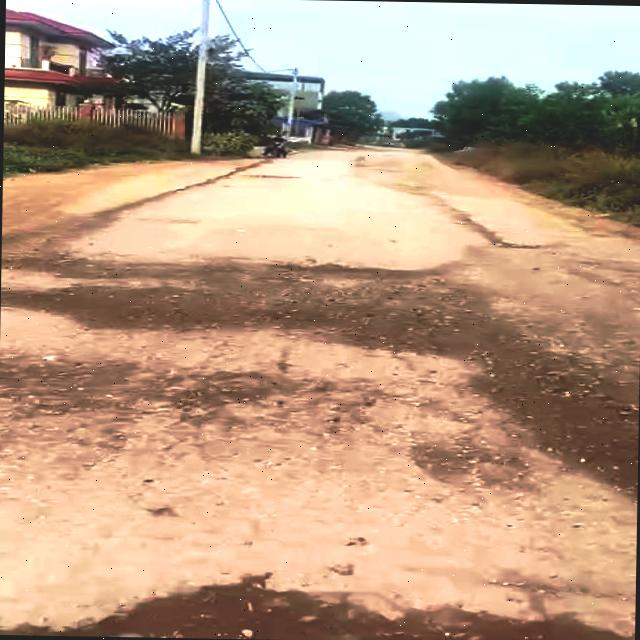pothole: (266, 257, 502, 352), (7, 270, 228, 326)
